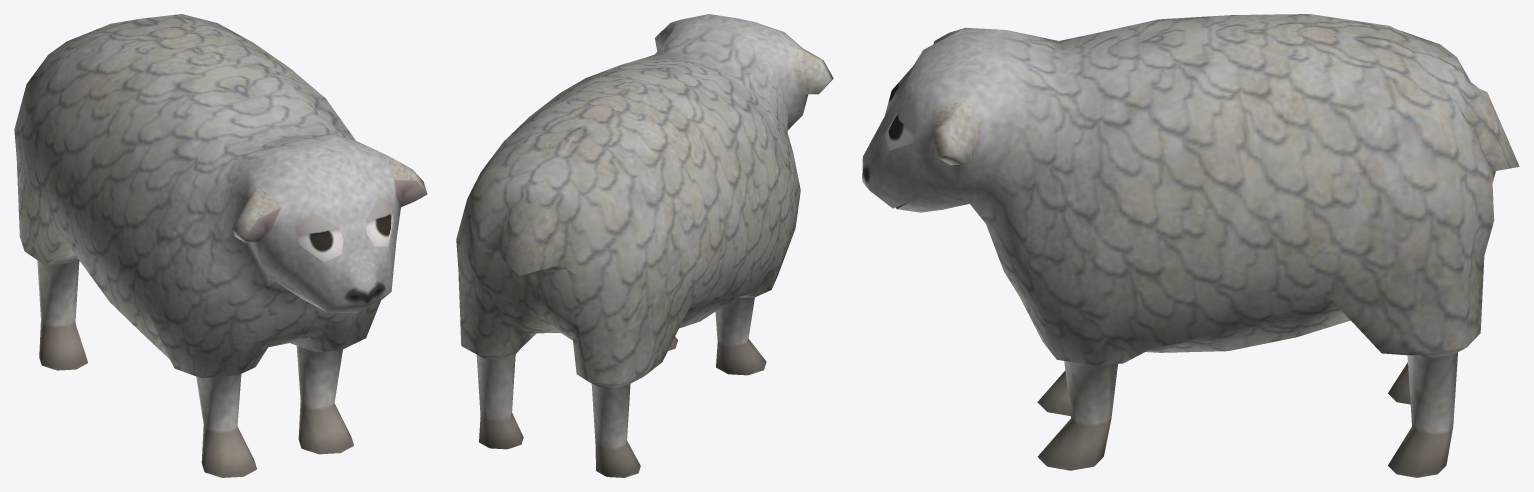
The model's file is pieces_sheep_01.fbx.
The picture shows the model from 3 angles, left to right: view 1: azimuth 30°, elevation 25°; view 2: azimuth 150°, elevation 25°; view 3: azimuth 270°, elevation 25°; orthographic projection. The views are drawn at different scales.
Parts seen in each view (by area): view 1: sheep_pieces_blood_01:polySurface251, sheep_pieces_blood_01:polySurface255, sheep_pieces_blood_01:polySurface252, sheep_pieces_blood_01:polySurface253, sheep_pieces_blood_01:polySurface256, sheep_pieces_blood_01:polySurface231, sheep_pieces_blood_01:polySurface247, sheep_pieces_blood_01:polySurface257, sheep_pieces_blood_01:polySurface258, sheep_pieces_blood_01:polySurface229, sheep_pieces_blood_01:polySurface241; view 2: sheep_pieces_blood_01:polySurface256, sheep_pieces_blood_01:polySurface255, sheep_pieces_blood_01:polySurface231, sheep_pieces_blood_01:polySurface251, sheep_pieces_blood_01:polySurface243, sheep_pieces_blood_01:polySurface252, sheep_pieces_blood_01:polySurface235, sheep_pieces_blood_01:polySurface253, sheep_pieces_blood_01:polySurface258, sheep_pieces_blood_01:polySurface245, sheep_pieces_blood_01:polySurface257, sheep_pieces_blood_01:polySurface229; view 3: sheep_pieces_blood_01:polySurface243, sheep_pieces_blood_01:polySurface231, sheep_pieces_blood_01:polySurface251, sheep_pieces_blood_01:polySurface229, sheep_pieces_blood_01:polySurface241, sheep_pieces_blood_01:polySurface245, sheep_pieces_blood_01:polySurface255, sheep_pieces_blood_01:polySurface247, sheep_pieces_blood_01:polySurface235, sheep_pieces_blood_01:polySurface252, sheep_pieces_blood_01:polySurface257.
Part boxes in pixels (<box>): sheep_pieces_blood_01:polySurface251: <box>218,134,427,313</box>; sheep_pieces_blood_01:polySurface255: <box>26,19,239,197</box>; sheep_pieces_blood_01:polySurface252: <box>125,87,311,326</box>; sheep_pieces_blood_01:polySurface253: <box>109,198,305,378</box>; sheep_pieces_blood_01:polySurface256: <box>14,84,124,301</box>; sheep_pieces_blood_01:polySurface231: <box>140,14,325,98</box>; sheep_pieces_blood_01:polySurface247: <box>296,345,353,454</box>; sheep_pieces_blood_01:polySurface257: <box>196,374,256,477</box>; sheep_pieces_blood_01:polySurface258: <box>37,260,87,370</box>; sheep_pieces_blood_01:polySurface229: <box>240,82,355,325</box>; sheep_pieces_blood_01:polySurface241: <box>290,300,380,352</box>; sheep_pieces_blood_01:polySurface256: <box>533,171,765,388</box>; sheep_pieces_blood_01:polySurface255: <box>536,69,765,271</box>; sheep_pieces_blood_01:polySurface231: <box>467,65,661,255</box>; sheep_pieces_blood_01:polySurface251: <box>655,14,833,131</box>; sheep_pieces_blood_01:polySurface243: <box>456,199,560,360</box>; sheep_pieces_blood_01:polySurface252: <box>662,60,800,189</box>; sheep_pieces_blood_01:polySurface235: <box>500,193,570,275</box>; sheep_pieces_blood_01:polySurface253: <box>735,171,800,298</box>; sheep_pieces_blood_01:polySurface258: <box>591,384,640,477</box>; sheep_pieces_blood_01:polySurface245: <box>476,355,523,449</box>; sheep_pieces_blood_01:polySurface257: <box>715,297,766,375</box>; sheep_pieces_blood_01:polySurface229: <box>621,54,697,69</box>; sheep_pieces_blood_01:polySurface243: <box>1160,166,1494,358</box>; sheep_pieces_blood_01:polySurface231: <box>1156,31,1495,198</box>; sheep_pieces_blood_01:polySurface251: <box>862,27,1066,223</box>; sheep_pieces_blood_01:polySurface229: <box>986,38,1159,271</box>; sheep_pieces_blood_01:polySurface241: <box>1004,198,1227,365</box>; sheep_pieces_blood_01:polySurface245: <box>1388,352,1457,477</box>; sheep_pieces_blood_01:polySurface255: <box>1158,14,1470,81</box>; sheep_pieces_blood_01:polySurface247: <box>1037,361,1117,470</box>; sheep_pieces_blood_01:polySurface235: <box>1466,79,1519,171</box>; sheep_pieces_blood_01:polySurface252: <box>1059,19,1158,59</box>; sheep_pieces_blood_01:polySurface257: <box>1037,371,1070,416</box>.
Size of the model in its own units: 1.81 by 2.45 by 3.67.
1 material, 1 textured.
